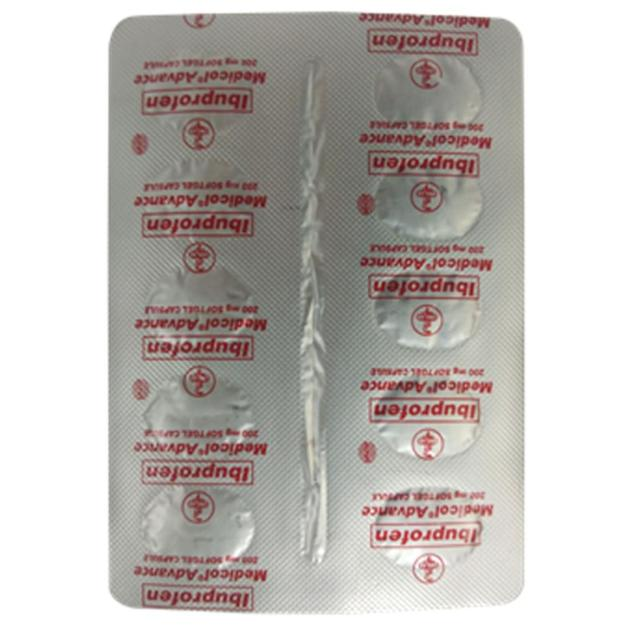blister: (99, 9, 532, 621)
